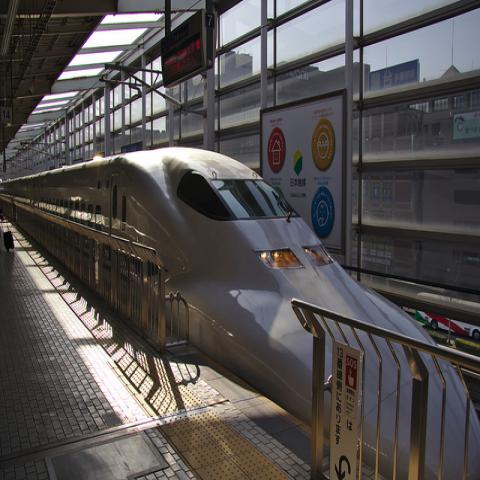bus: (416, 291, 480, 346)
